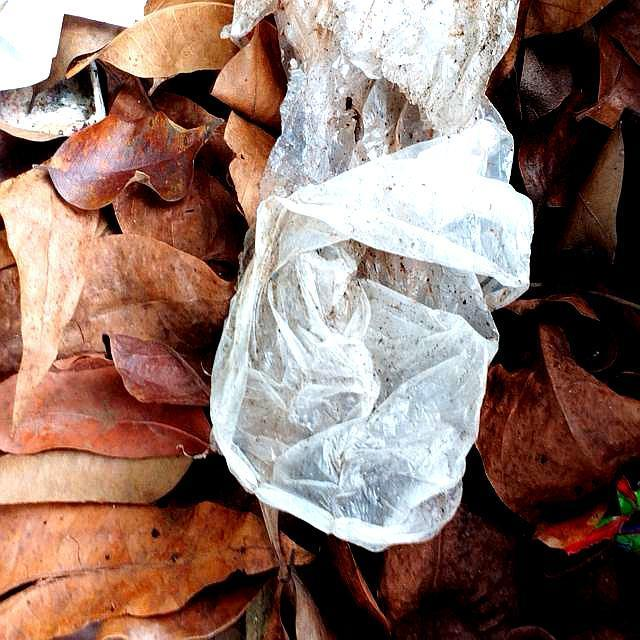Non-biodegradable: (205, 3, 557, 553)
